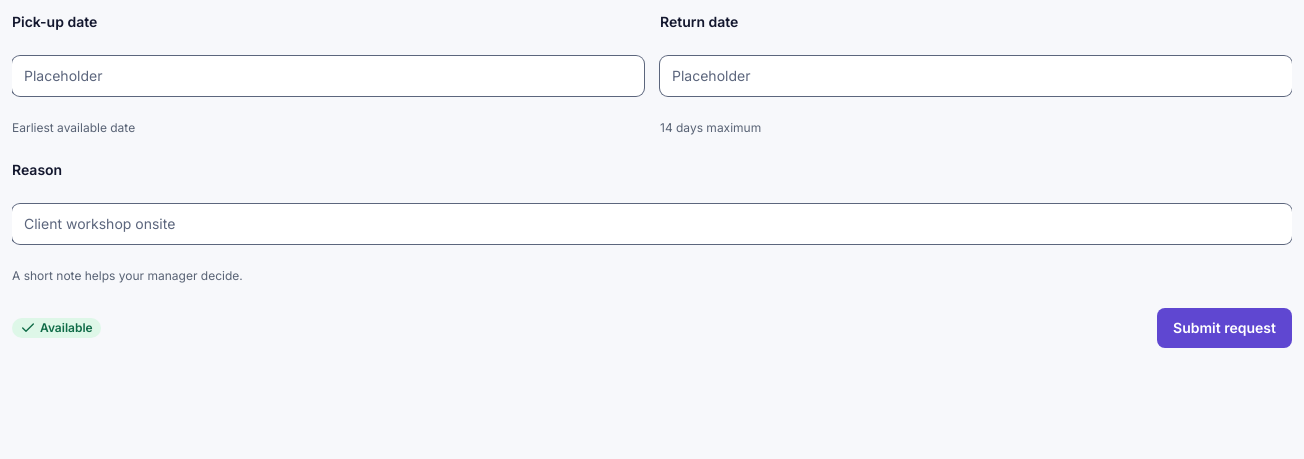
Test: RequestPanel › submits a valid range for an available asset
The width and height of the screenshot is (1304, 459).
Type "2026-10-22" into the field labelled "Pick-up date" at (328, 76), box [24,66,632,86]
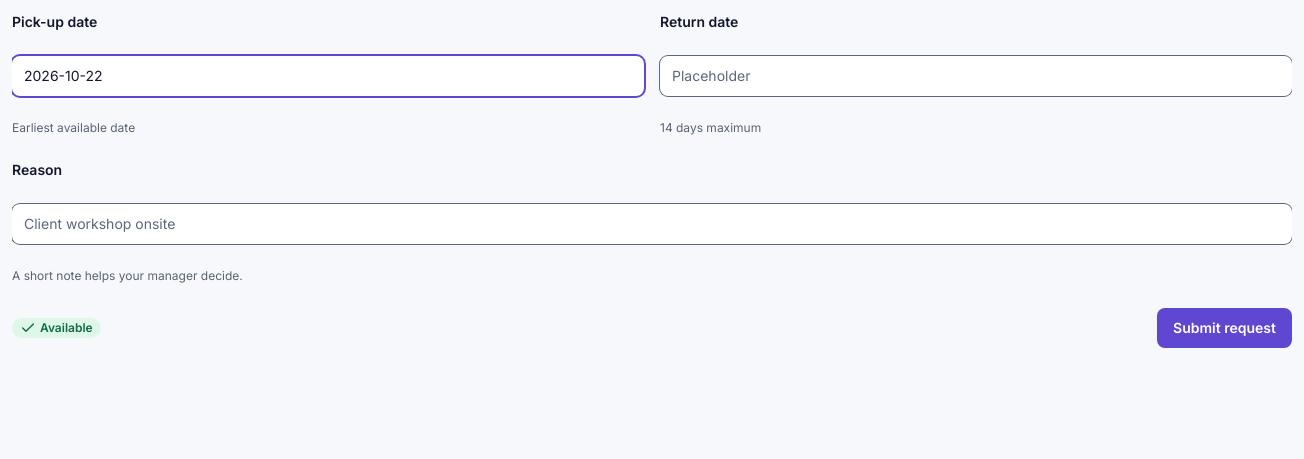
Type "2026-10-25" into the field labelled "Return date" at (976, 76), box [672,66,1280,86]
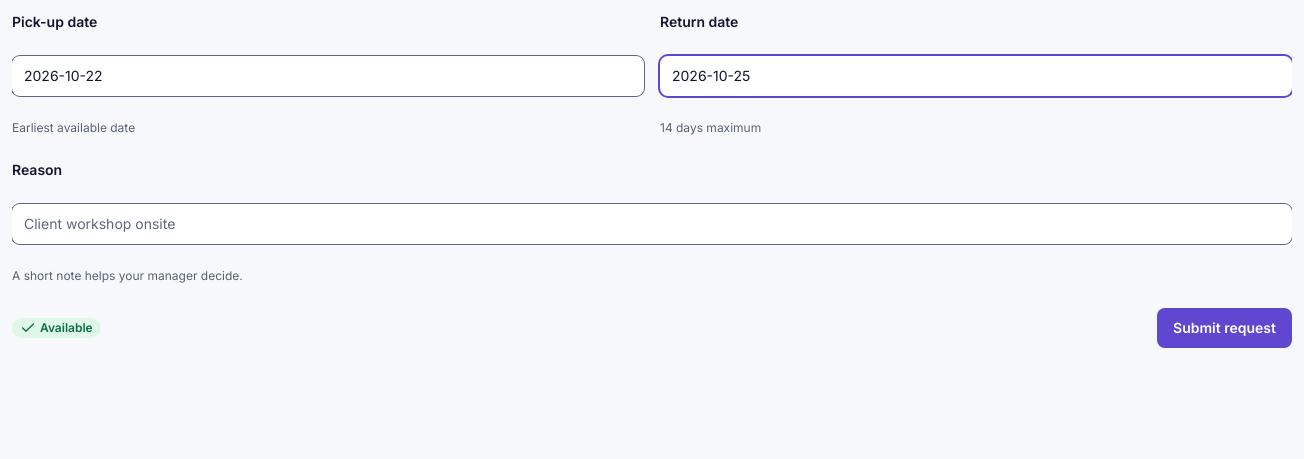
Click the button "Submit request" at (1225, 328), box [1157,308,1292,348]
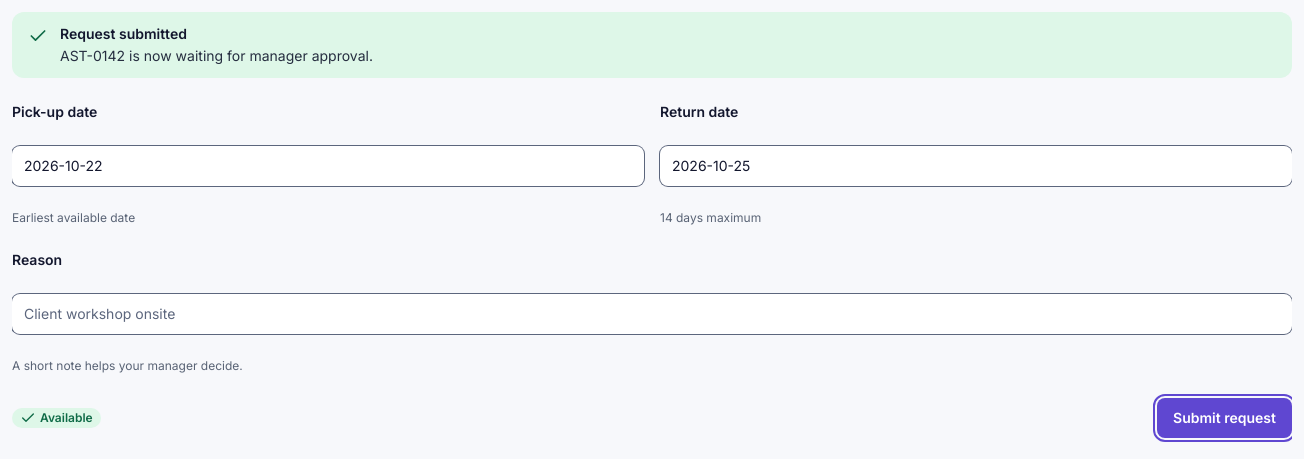
Expected: the text "Request submitted" is shown, [60,25,187,42]
Expected: the text "AST-0142 is now waiting for manager approval." is shown, [60,46,373,66]
